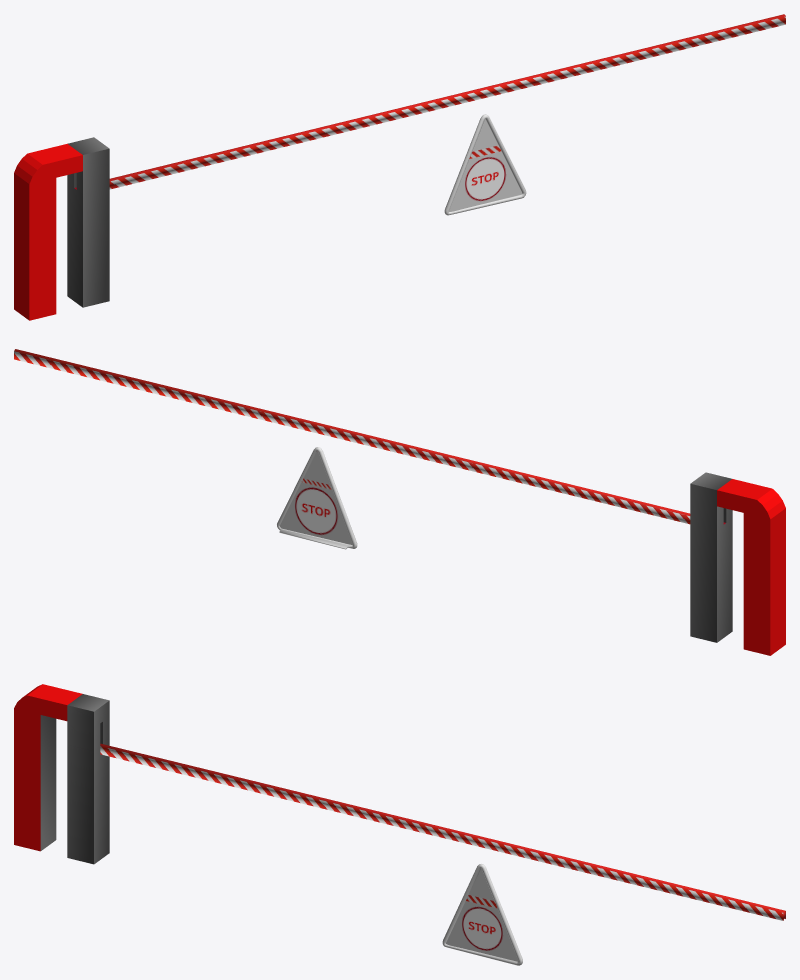
The model's file is danger.fbx.
3 renders of one model, top to bottom at view 1: azimuth 30°, elevation 25°; view 2: azimuth 150°, elevation 25°; view 3: azimuth 330°, elevation 25°, orthographic.
Parts seen in each view (by area): view 1: danger, danger.001; view 2: danger, danger.001; view 3: danger, danger.001.
Boxes of the visible parts, x1,y1,x2,y2 form: danger: (14,14,785,320); danger.001: (444,114,526,215); danger: (14,349,785,655); danger.001: (277,447,357,549); danger: (14,684,785,920); danger.001: (442,864,522,965).
Size of the model in its own units: 763 by 149 by 26.86.
Materials: 2 (1 with a texture image).
